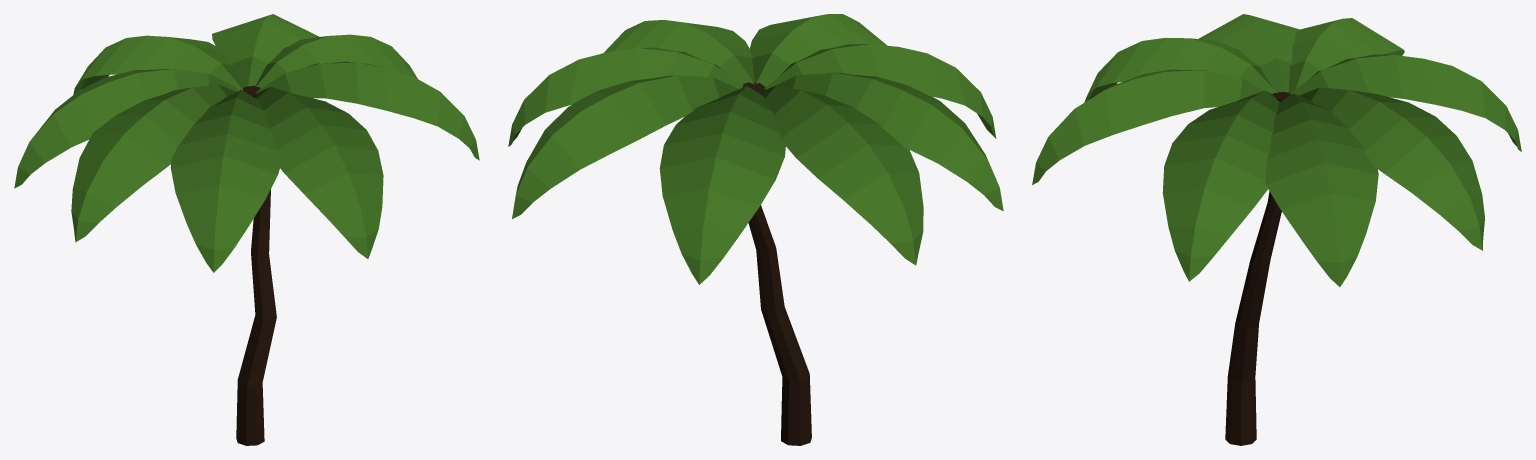
Rendered from Palmera3.fbx.
3 renders of one model, left to right at view 1: azimuth 30°, elevation 25°; view 2: azimuth 150°, elevation 25°; view 3: azimuth 270°, elevation 25°, orthographic. The views are drawn at different scales.
Parts seen in each view (by area): view 1: Palmera003; view 2: Palmera003; view 3: Palmera003.
Part boxes in pixels (box(x1,y1,x2,y2)): Palmera003: box(14, 14, 479, 445); Palmera003: box(508, 14, 1003, 445); Palmera003: box(1032, 14, 1521, 445).
Bounding box in the file's own units: 428 × 364 × 425.
